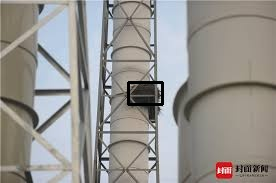bird-nest: (128, 82, 162, 104)
